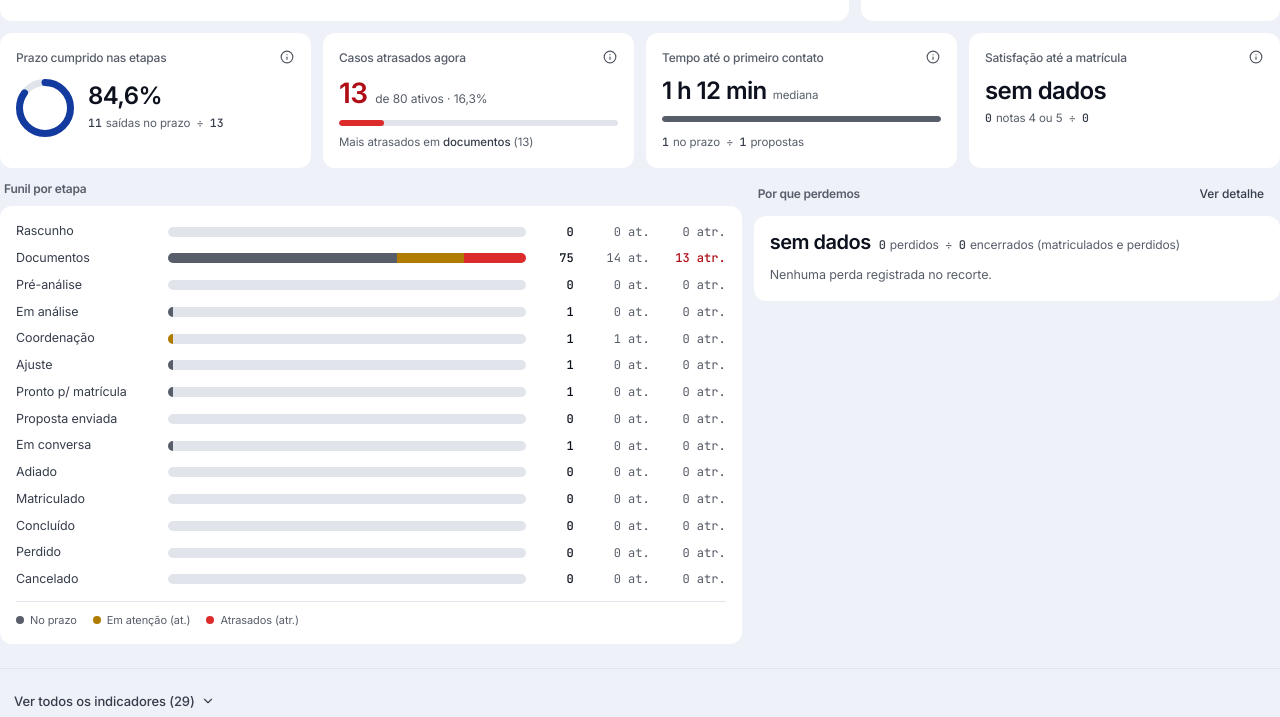
Test: PainelIndicadores › gestão vê IA e conversão por responsável
The image size is (1280, 717).
(page scrolled)
Click the button "Ver todos os indicadores (29)" at [114, 701], box [0,685,229,716]
(page scrolled)
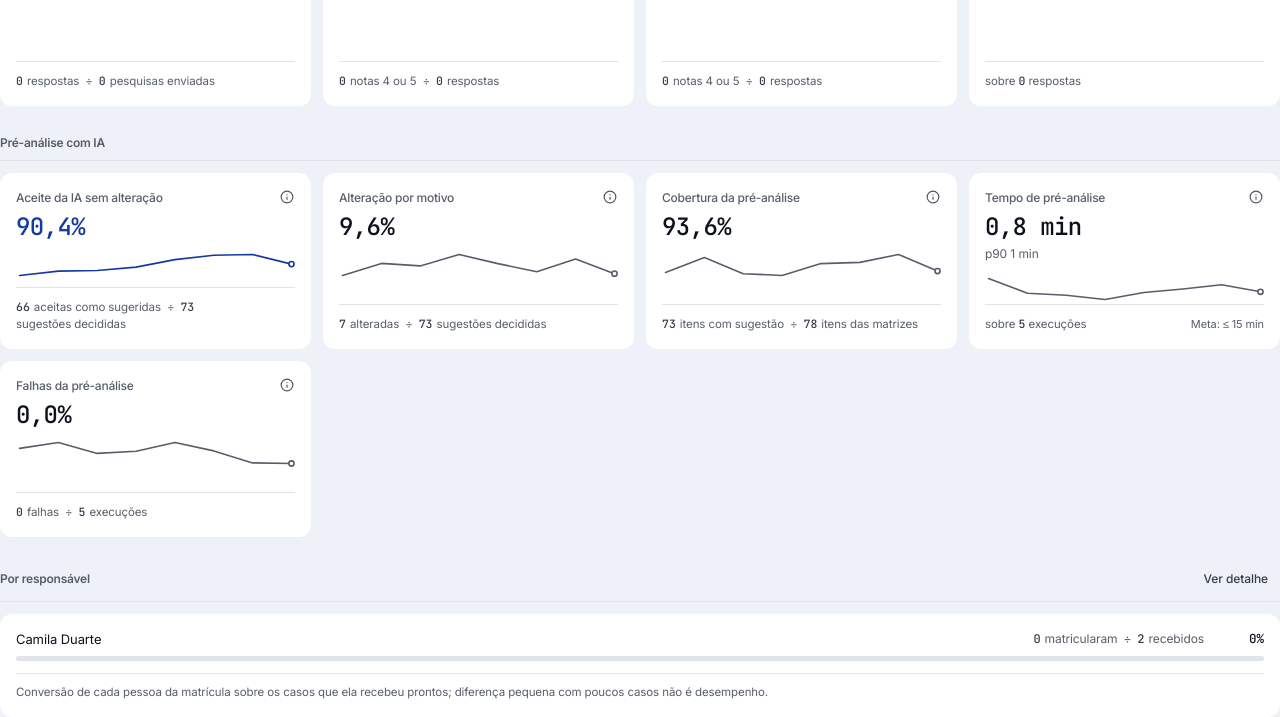
Check: the heading "Pré-análise com IA" is shown, box [0,134,105,152]
Check: the text "Por responsável" is shown, box [0,571,90,586]
